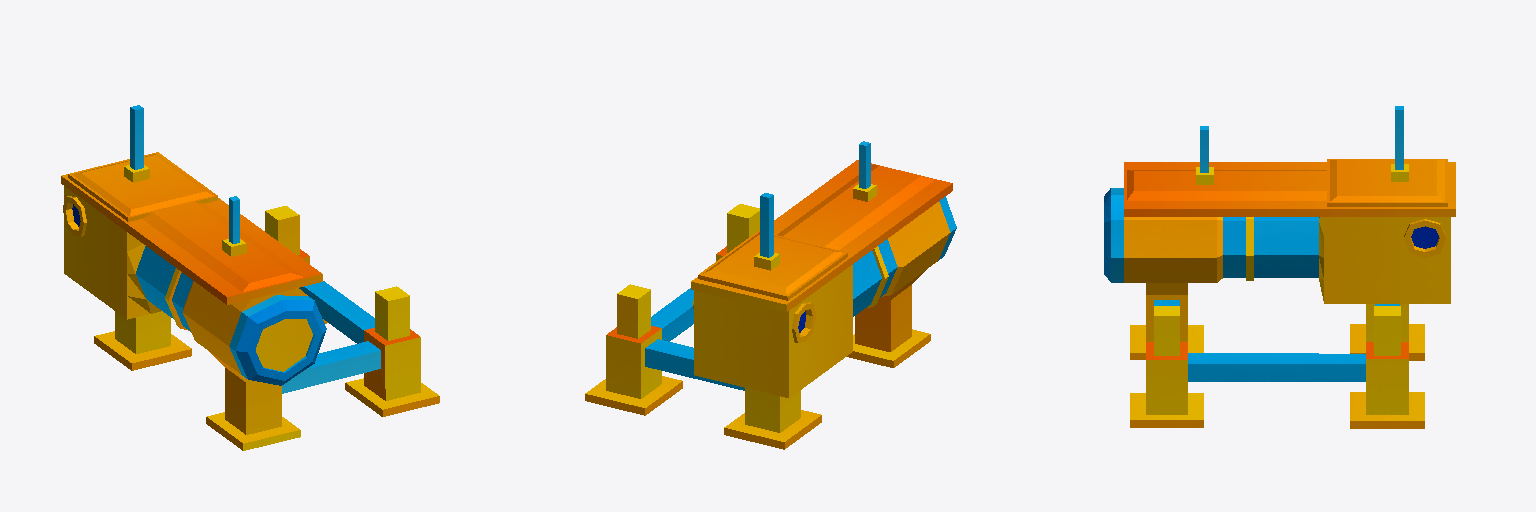
3 views of the same model, side by side, from view 1: azimuth 30°, elevation 25°; view 2: azimuth 150°, elevation 25°; view 3: azimuth 270°, elevation 25° (orthographic).
Visible parts, largest first — view 1: base; view 2: base; view 3: base.
Part boxes in pixels (left/top/right/bottom): base: left=61, top=105, right=439, bottom=450; base: left=585, top=141, right=956, bottom=449; base: left=1104, top=106, right=1455, bottom=428.
Size of the model in its own units: 14.06 by 14.49 by 19.47.
Materials: 1 (1 with a texture image).